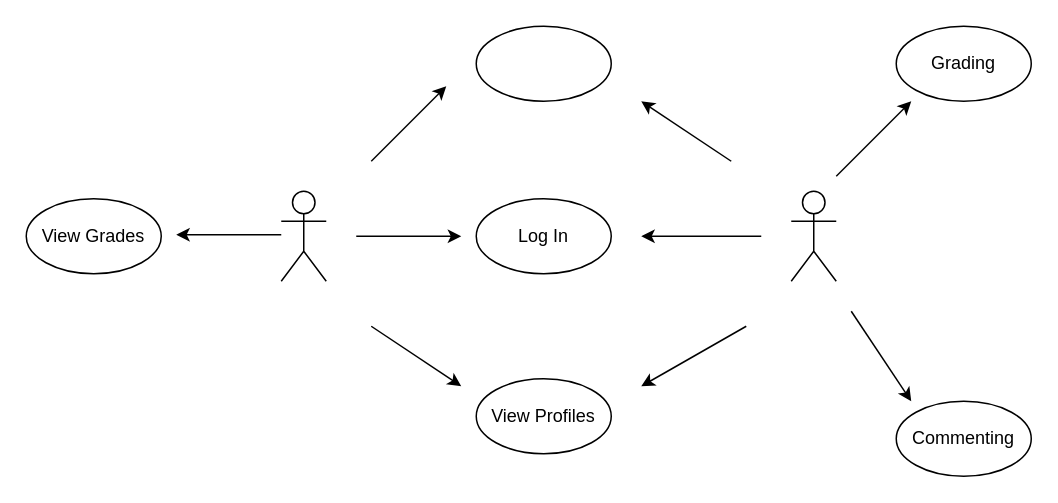
The diagram is 1058 pixels wide and 503 high, and some of its shapes have lost their labels. Here are the shapes that lost their labels. From the top down, the centre of each, then its label:
point 543,63: Use Serach Engine
point 303,235: Student
point 813,235: Teacher
